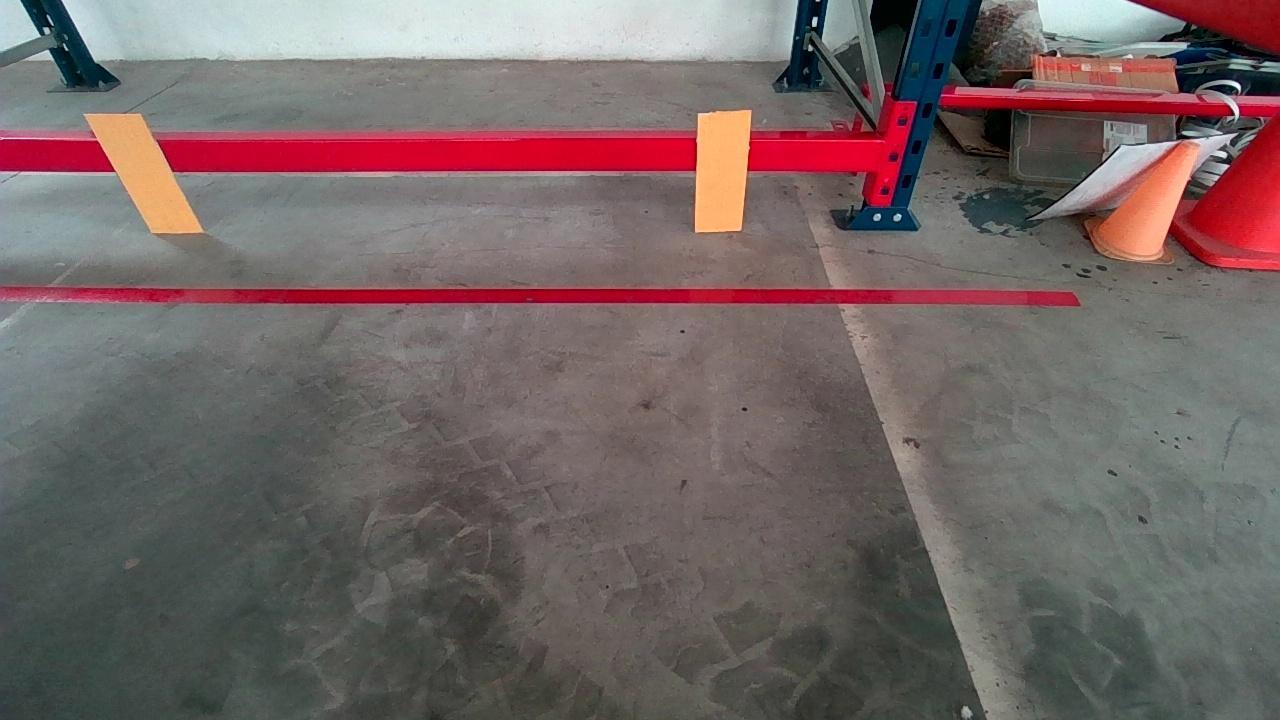h_rack: (8, 133, 885, 178)
orange_strip: (85, 113, 202, 230), (695, 112, 749, 231)
